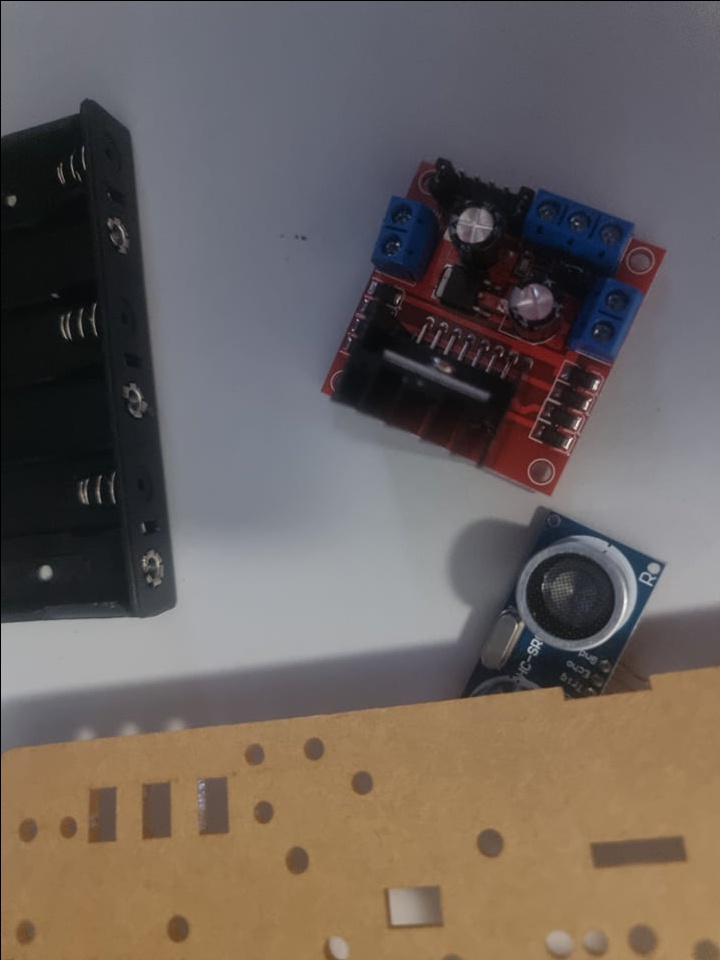BATTERY BOX: (0, 98, 185, 625)
MOTOR: (320, 158, 668, 495)
SENSOR: (448, 501, 695, 722)
